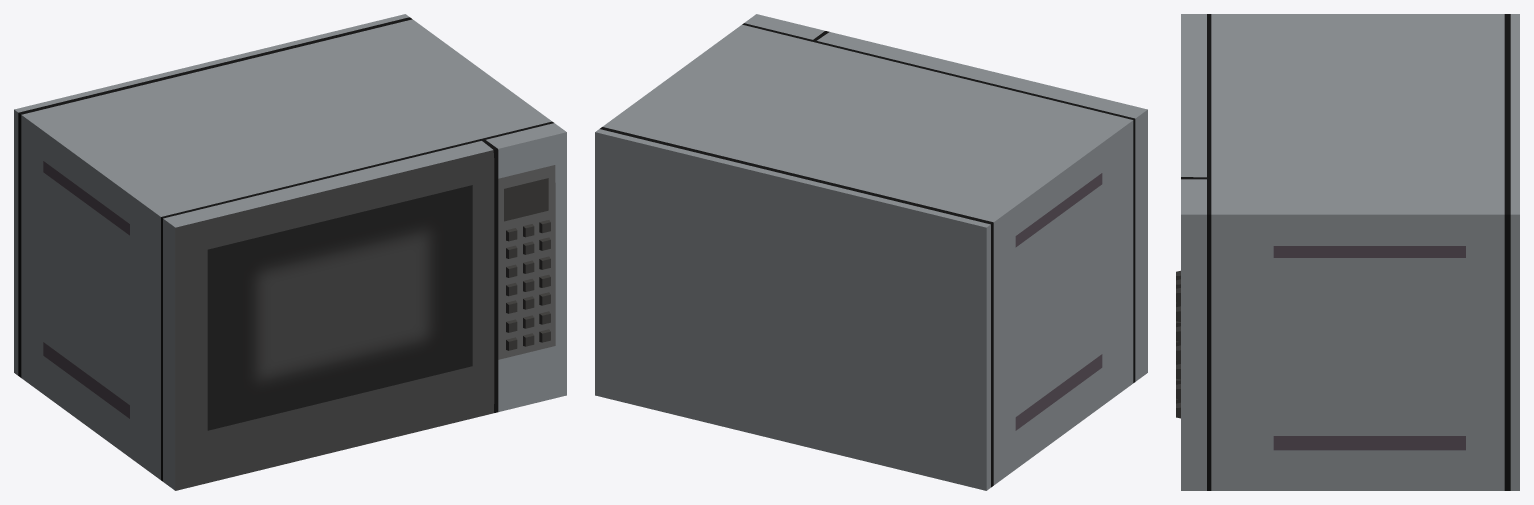
The model's file is Microwave_Oven.fbx.
3 renders of one model, left to right at view 1: azimuth 30°, elevation 25°; view 2: azimuth 150°, elevation 25°; view 3: azimuth 270°, elevation 25°, orthographic. The views are drawn at different scales.
Parts seen in each view (by area): view 1: polySurface2186; view 2: polySurface2186; view 3: polySurface2186.
Part boxes in pixels (x1,y1,x2,y2): polySurface2186: (14,14,566,490); polySurface2186: (595,14,1147,490); polySurface2186: (1176,14,1519,490).
Bounding box in the file's own units: 0.7 × 0.45 × 0.507.
1 material, 1 textured.
